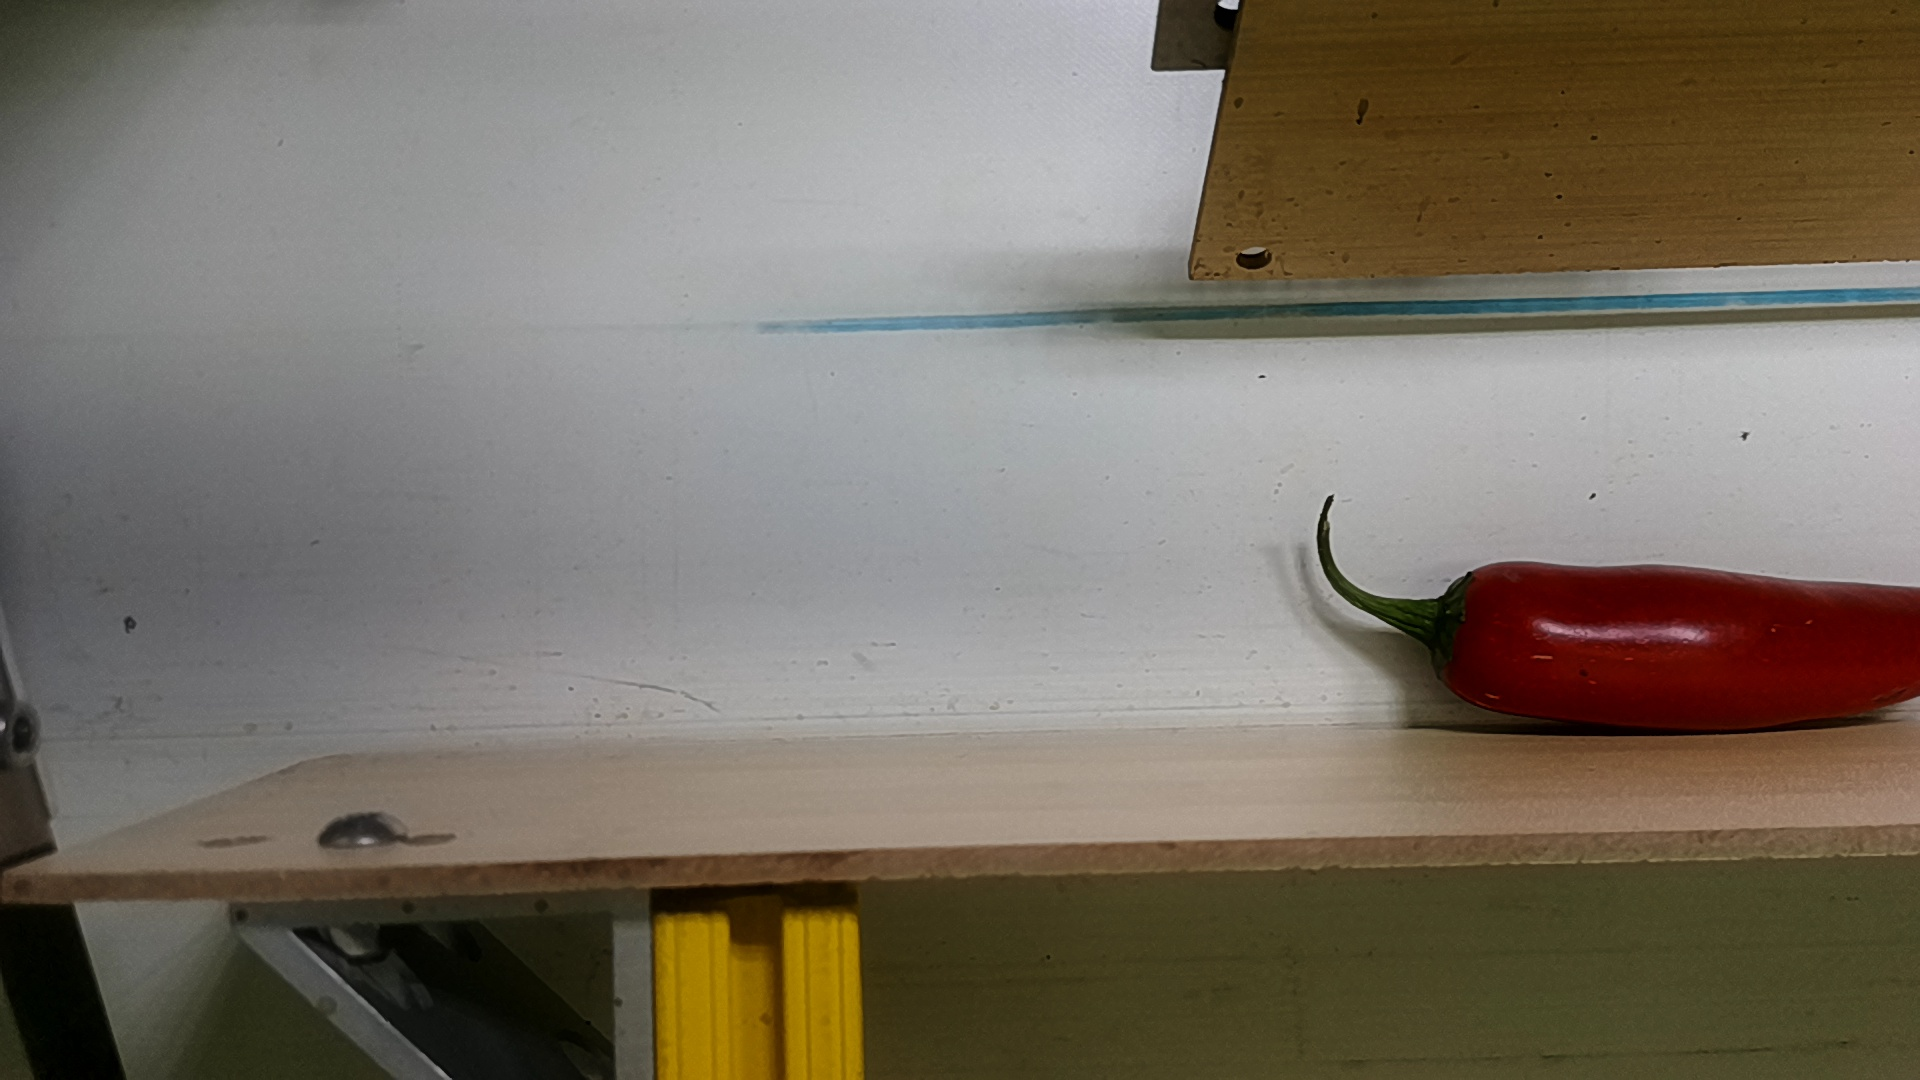Cut Point: (1412, 553, 1520, 717)
